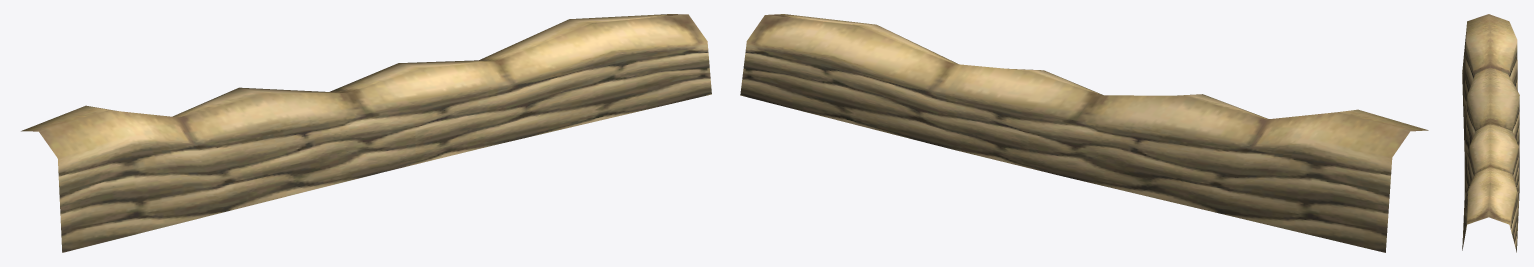
Rendered from Sandbags2_Med2Low_Straight1.glb.
3 renders of one model, left to right at view 1: azimuth 30°, elevation 25°; view 2: azimuth 150°, elevation 25°; view 3: azimuth 270°, elevation 25°, orthographic. The views are drawn at different scales.
Parts seen in each view (by area): view 1: SANDBAGS2_MED2LOW_STRAIGHT1; view 2: SANDBAGS2_MED2LOW_STRAIGHT1; view 3: SANDBAGS2_MED2LOW_STRAIGHT1.
Part boxes in pixels (x1,y1,x2,y2): SANDBAGS2_MED2LOW_STRAIGHT1: (21,14,711,252); SANDBAGS2_MED2LOW_STRAIGHT1: (740,14,1428,252); SANDBAGS2_MED2LOW_STRAIGHT1: (1462,14,1519,252).
Size of the model in its own units: 4 by 0.629 by 0.542.
1 material, 1 textured.
